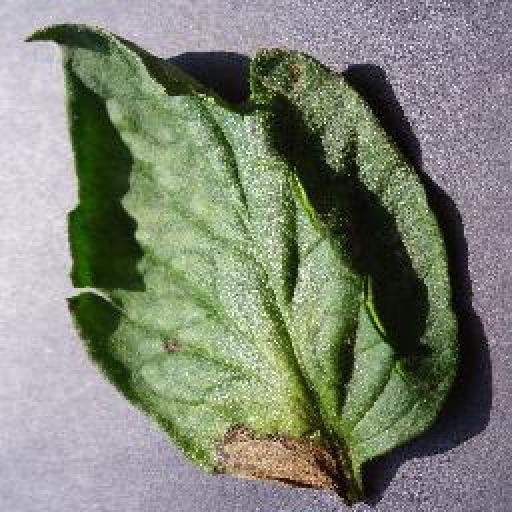disease_tomato: (25, 19, 463, 505)
